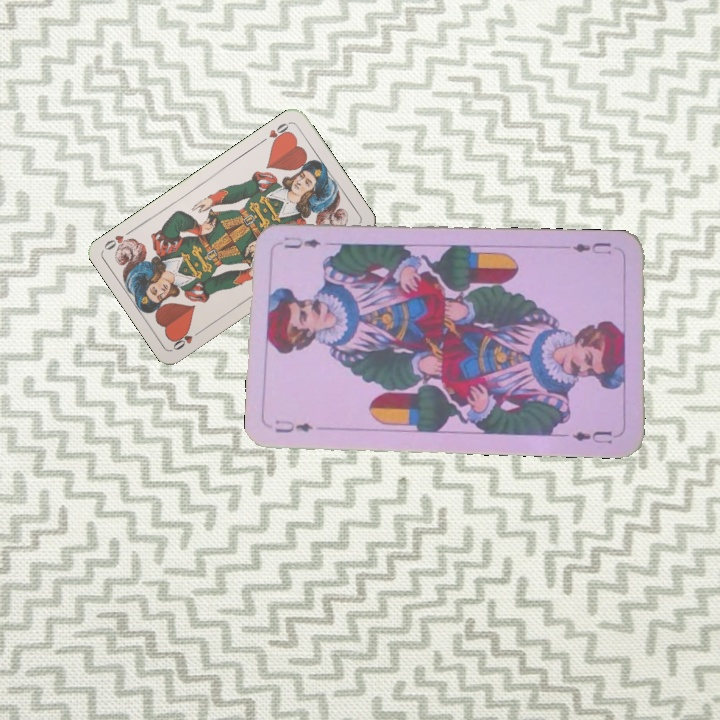EU: (568, 238, 614, 257), (271, 416, 315, 435)
HO: (256, 118, 293, 147), (169, 325, 205, 353)
